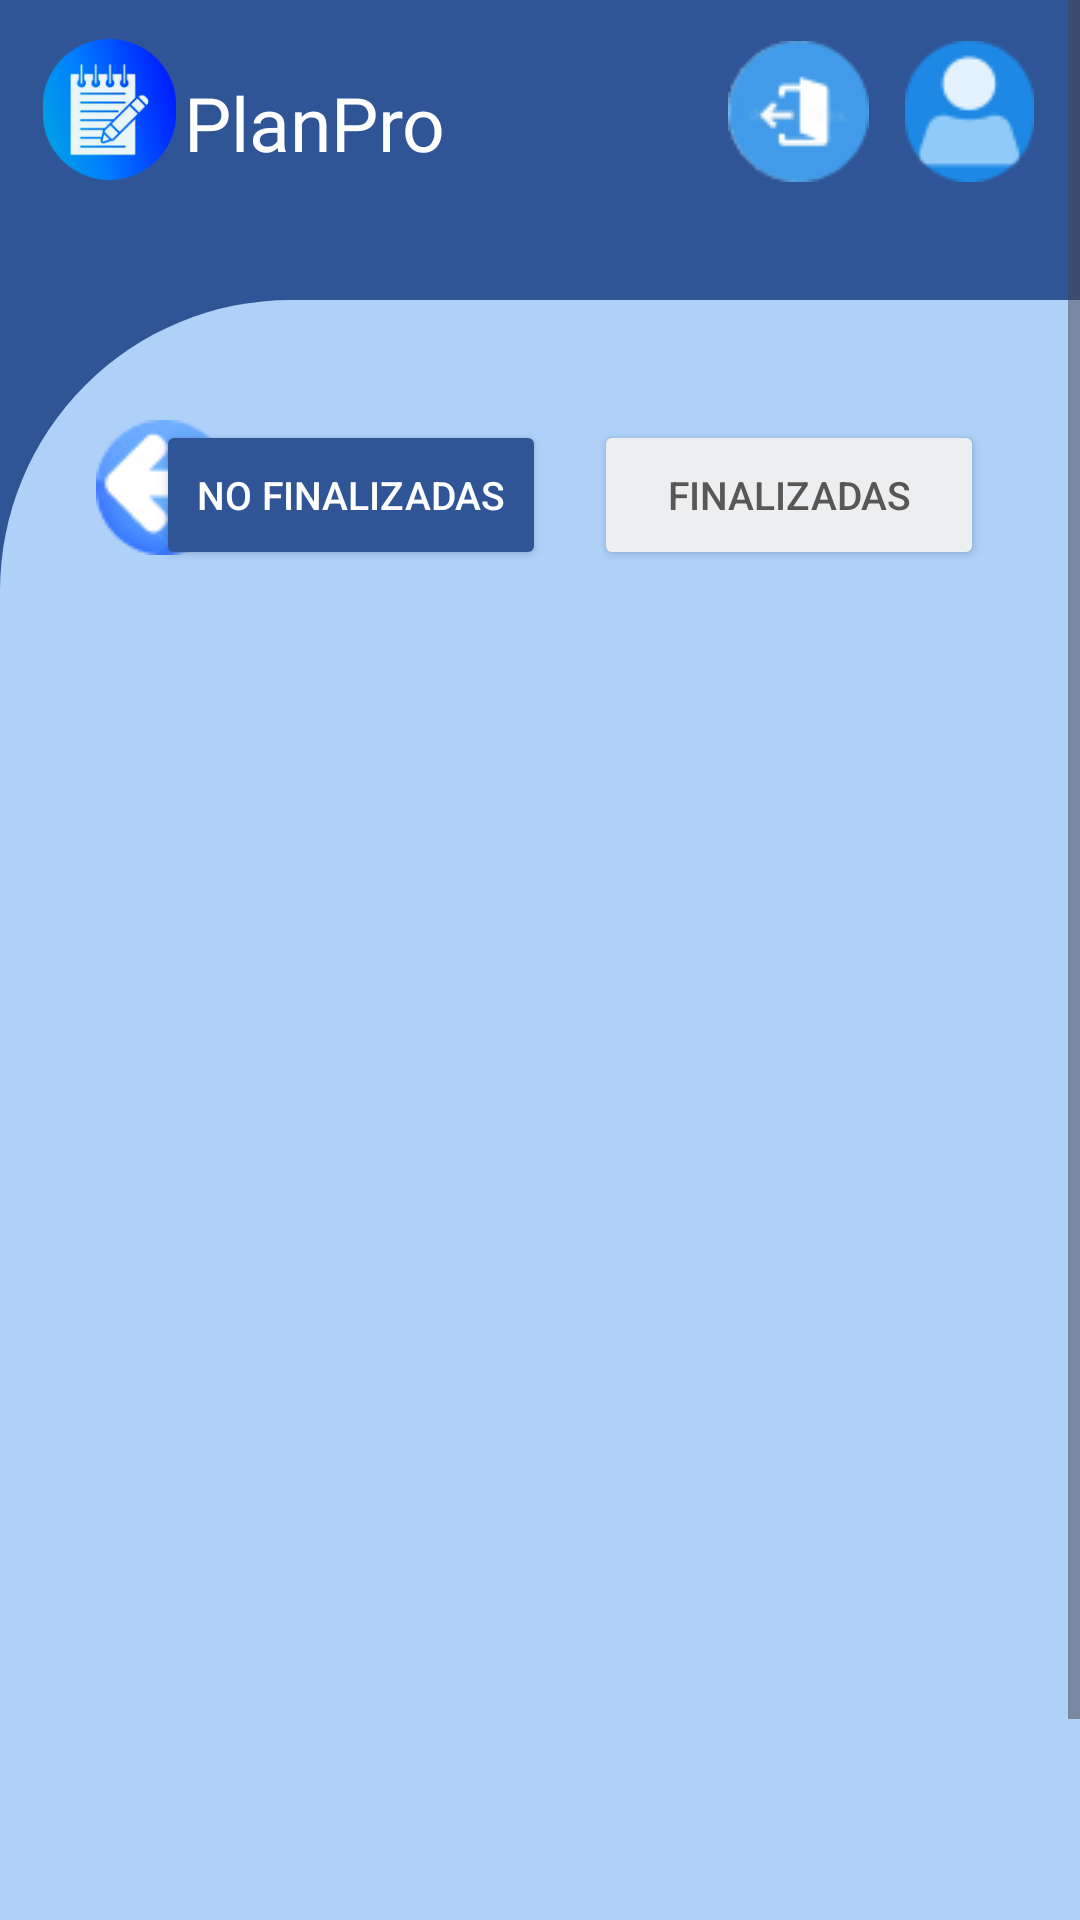

Screen size 1080w x 1920h. Icon name, then its center in pixels as point (x, y):
Editar usuario: point (969, 111)
Salir: point (798, 111)
